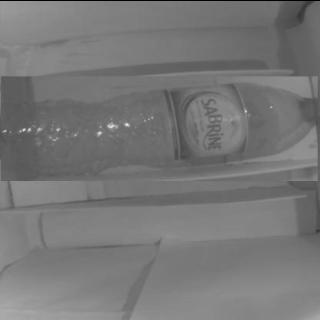plastic_bottles: (1, 74, 318, 180)
